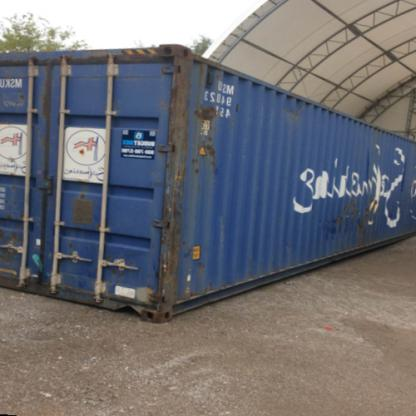Damage: (158, 172, 214, 300), (324, 190, 385, 234), (158, 75, 190, 157), (63, 186, 102, 236), (192, 102, 219, 166), (278, 96, 314, 126), (276, 228, 300, 256)
